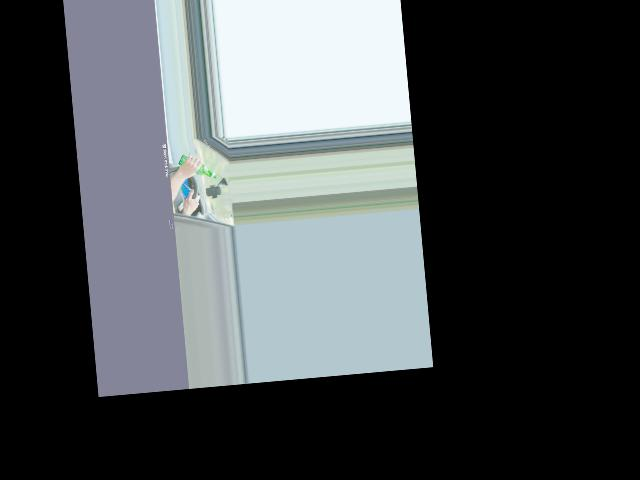beer: (176, 152, 217, 182)
